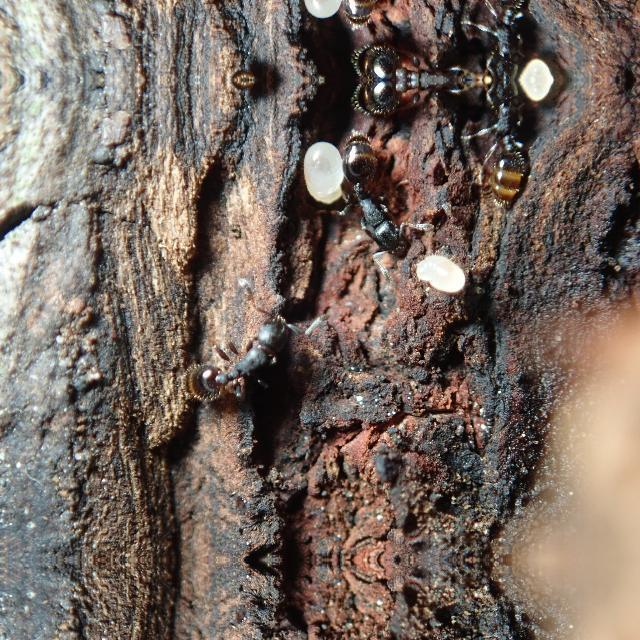Temnothorax: (151, 284, 313, 404), (334, 133, 441, 263), (458, 80, 558, 210), (458, 0, 558, 80), (340, 80, 466, 112), (340, 48, 466, 80), (332, 0, 439, 26)
